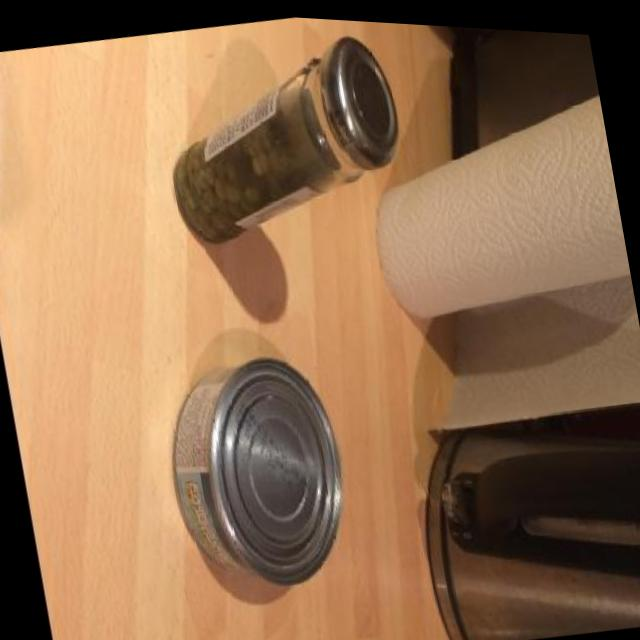glass: (148, 17, 414, 262)
metal: (154, 339, 360, 608)
